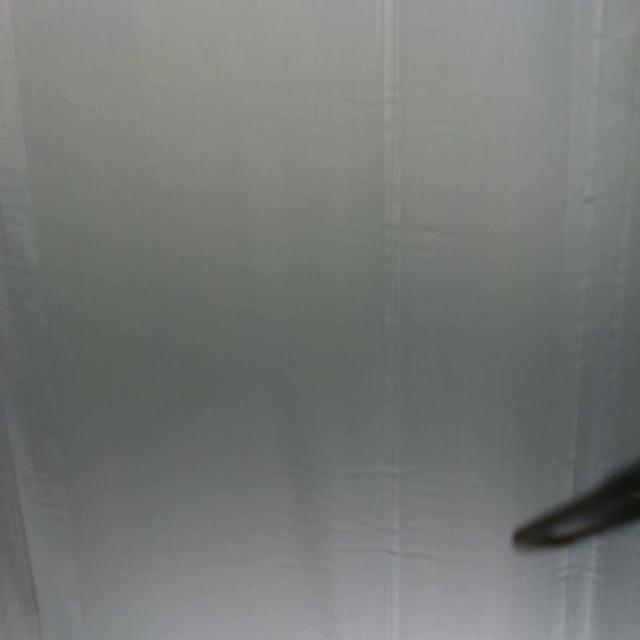crease: (551, 0, 606, 466), (383, 0, 402, 638), (0, 393, 44, 636)
